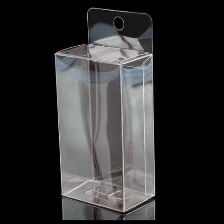plastic_box: (44, 2, 162, 218)
